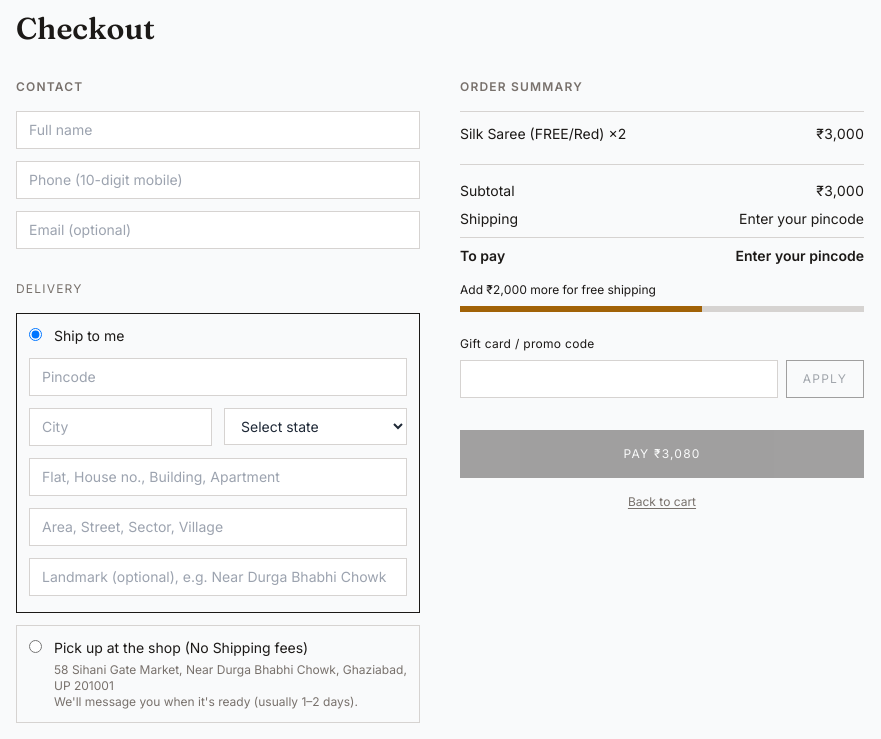
Scenario: shows the leftover-voucher note the server sends
Expected: the text with test id "quote-to-pay" is shown, [736,246,864,266]
Type "VOUCHER5000ABCD" into the field labelled "Gift card / promo code" at coordinates (619, 379), box [460,360,778,398]
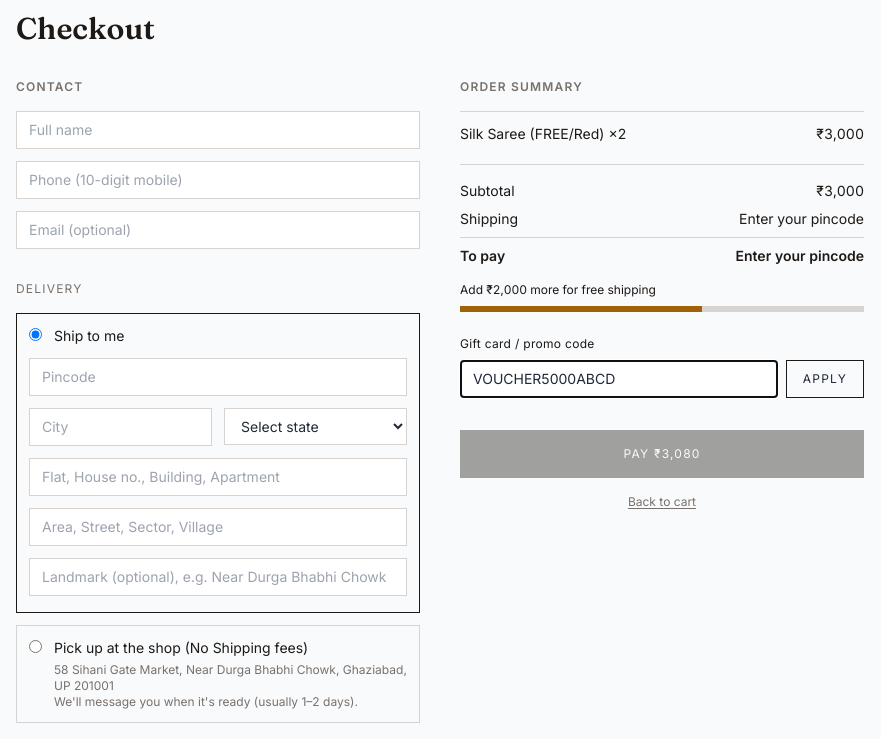
Click the button "Apply" at coordinates (825, 379), box [786,360,864,398]
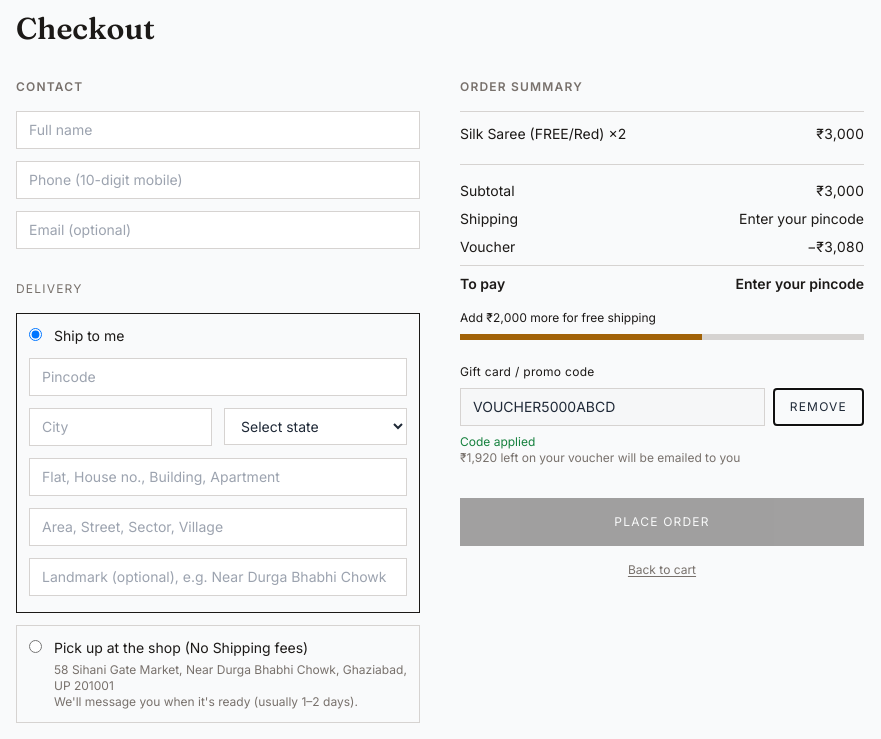
Result: the text "₹1,920 left on your voucher will be emailed to you" is shown at [460,450,740,465]
Result: the button "Place order" is shown at [460,498,864,546]
